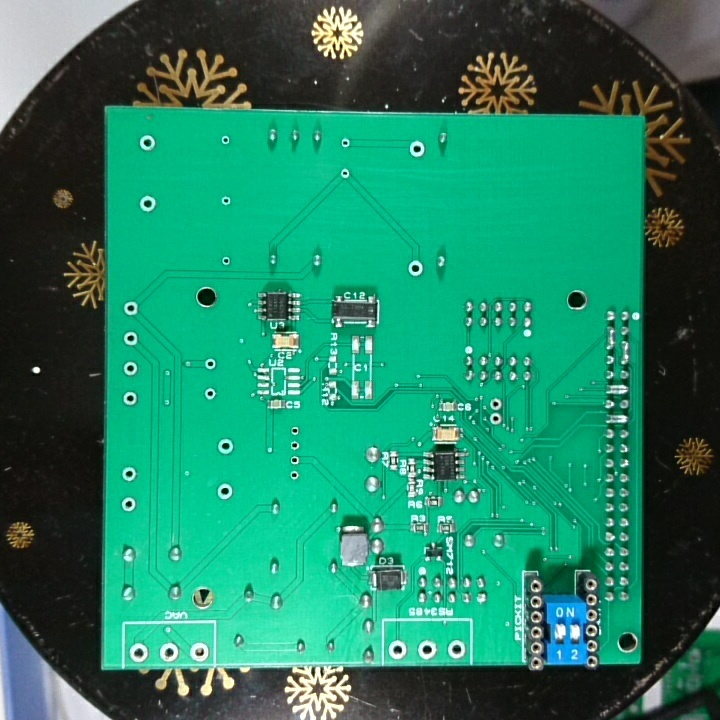F: (126, 640, 151, 663), (157, 639, 180, 664), (385, 638, 410, 661), (445, 638, 469, 661), (416, 637, 439, 660), (187, 640, 211, 662), (137, 192, 159, 215), (214, 435, 237, 457), (213, 480, 236, 502), (119, 463, 141, 486), (406, 138, 428, 160), (137, 132, 158, 154), (405, 258, 425, 280), (120, 329, 141, 349), (120, 358, 140, 378), (119, 389, 139, 409), (120, 298, 139, 318), (119, 495, 138, 513), (202, 383, 219, 403), (486, 409, 503, 428), (337, 163, 353, 183), (202, 355, 219, 373), (487, 395, 505, 412), (218, 252, 235, 269), (337, 134, 353, 152), (217, 131, 233, 148), (218, 192, 234, 209), (287, 467, 302, 483), (288, 438, 303, 454), (288, 423, 302, 438), (287, 452, 302, 466)
P: (602, 322, 619, 353), (603, 411, 632, 428), (603, 380, 630, 398), (618, 338, 634, 367)
